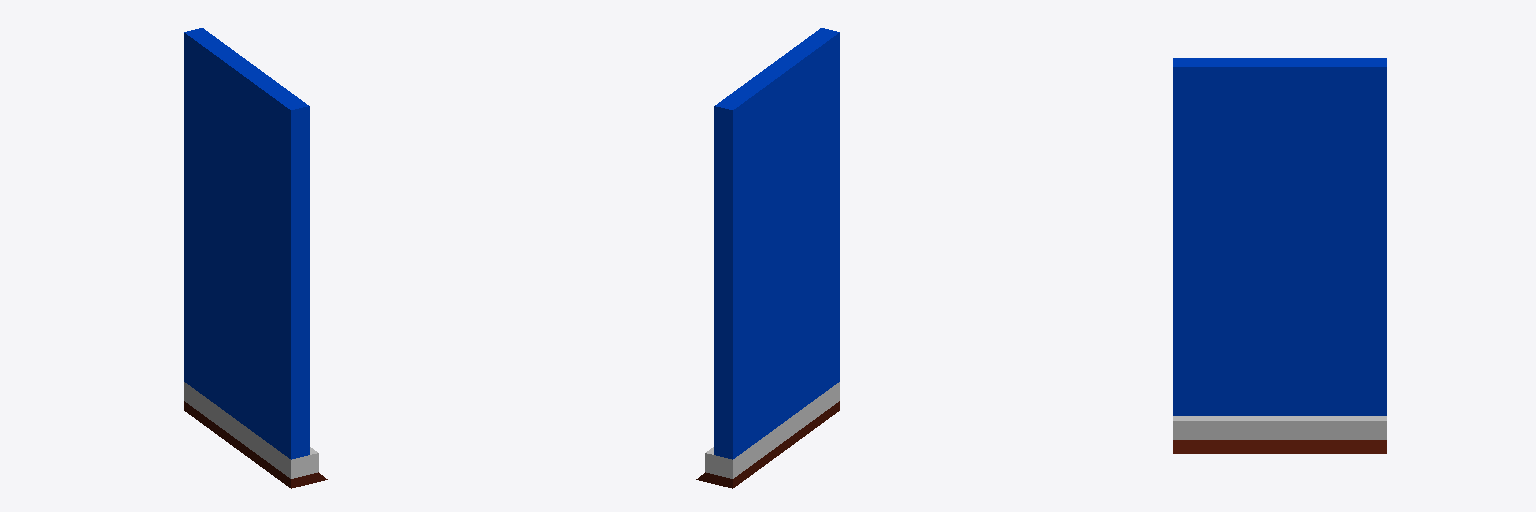
The model's file is Wall1.obj.
3 views of the same model, side by side, from view 1: azimuth 30°, elevation 25°; view 2: azimuth 150°, elevation 25°; view 3: azimuth 270°, elevation 25° (orthographic).
Visible parts, largest first — view 1: Top_Cube.001, Middle_Cube.002, Bottom_Cube.003; view 2: Top_Cube.001, Middle_Cube.002, Bottom_Cube.003; view 3: Top_Cube.001, Middle_Cube.002, Bottom_Cube.003.
Boxes of the visible parts, x1=… form: Top_Cube.001: x1=184, y1=28, x2=309, y2=459; Middle_Cube.002: x1=184, y1=382, x2=318, y2=478; Bottom_Cube.003: x1=184, y1=401, x2=327, y2=488; Top_Cube.001: x1=714, y1=28, x2=839, y2=459; Middle_Cube.002: x1=705, y1=382, x2=839, y2=478; Bottom_Cube.003: x1=696, y1=401, x2=839, y2=488; Top_Cube.001: x1=1173, y1=58, x2=1386, y2=415; Middle_Cube.002: x1=1173, y1=416, x2=1386, y2=439; Bottom_Cube.003: x1=1173, y1=440, x2=1386, y2=453.
Bounding box in the file's own units: 0.2 × 1.95 × 1.